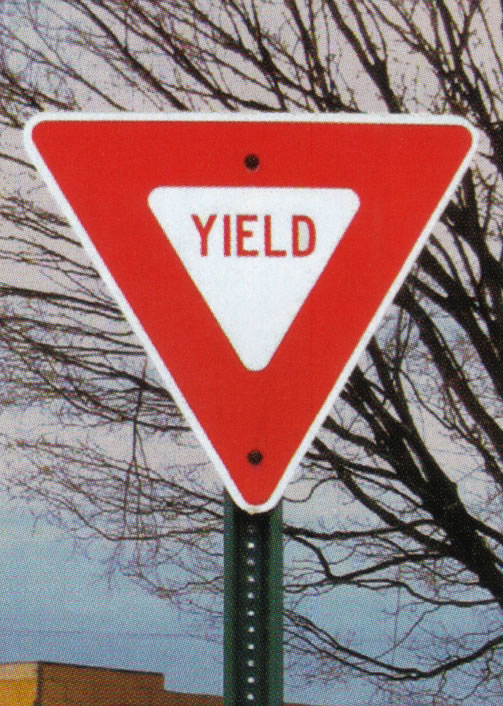yield_sign: (21, 110, 473, 513)
